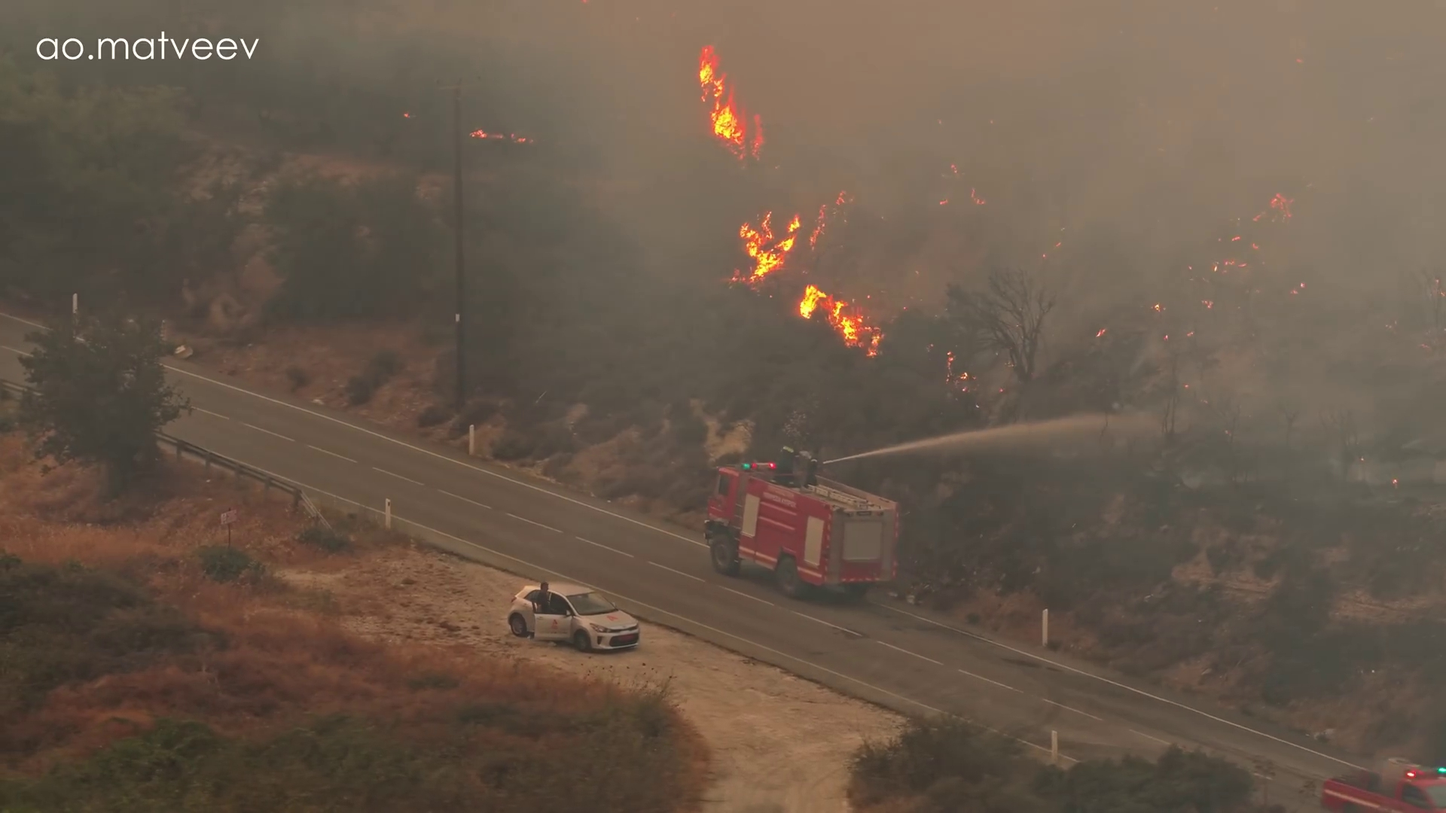forest_fire: (698, 45, 764, 163), (796, 283, 882, 355), (734, 210, 802, 288), (805, 204, 828, 249)
